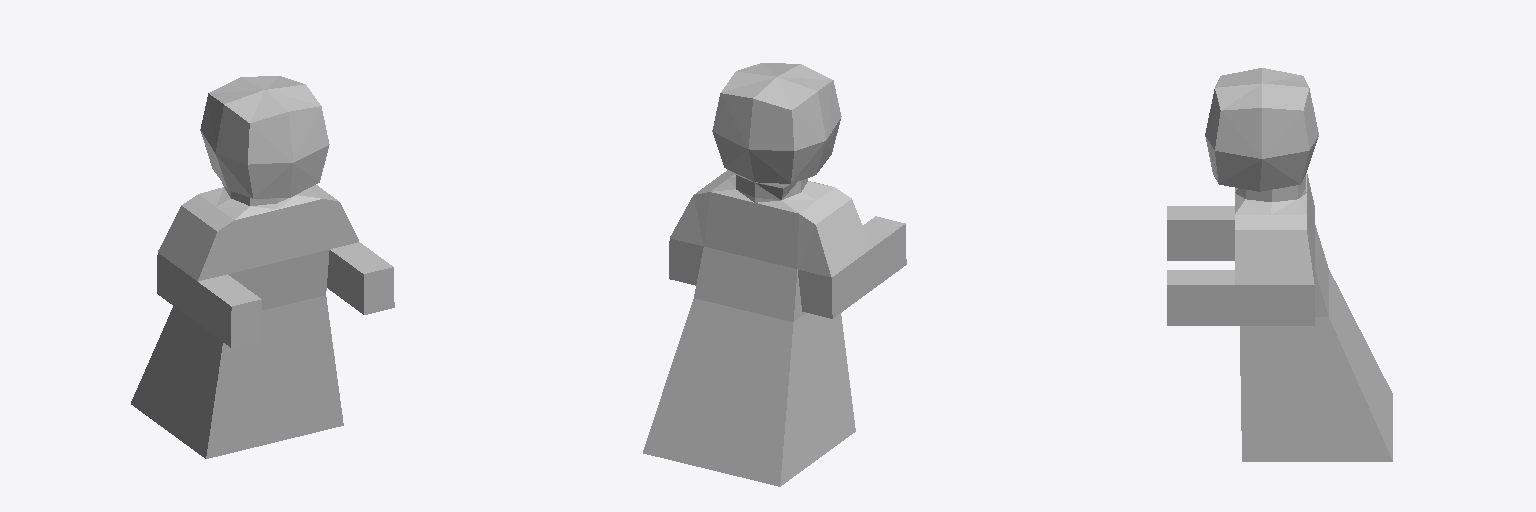
File: wraithDummy.obj
3 renders of one model, left to right at view 1: azimuth 30°, elevation 25°; view 2: azimuth 150°, elevation 25°; view 3: azimuth 270°, elevation 25°, orthographic.
Visible parts, largest first — view 1: wraith; view 2: wraith; view 3: wraith.
Boxes of the visible parts, box(x1,y1,x2,y2) form: wraith: box(131, 76, 394, 458); wraith: box(643, 63, 906, 486); wraith: box(1167, 68, 1392, 461).
Bounding box in the file's own units: 2 × 4.02 × 2.4.